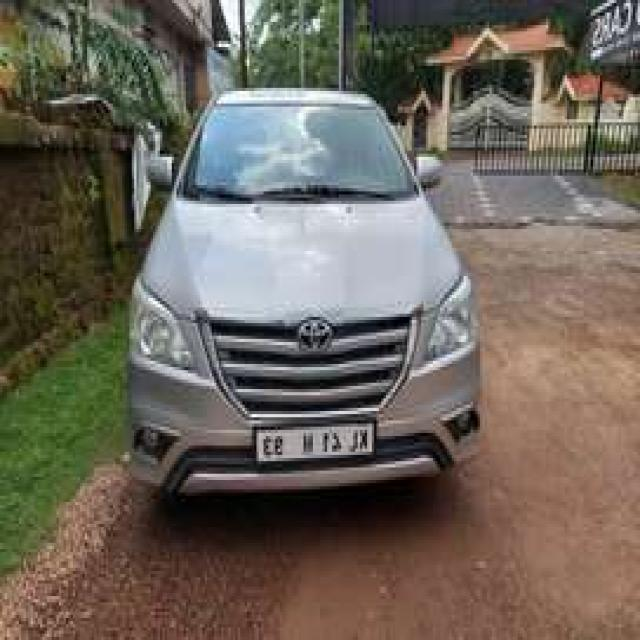license_plate: (249, 408, 379, 472)
